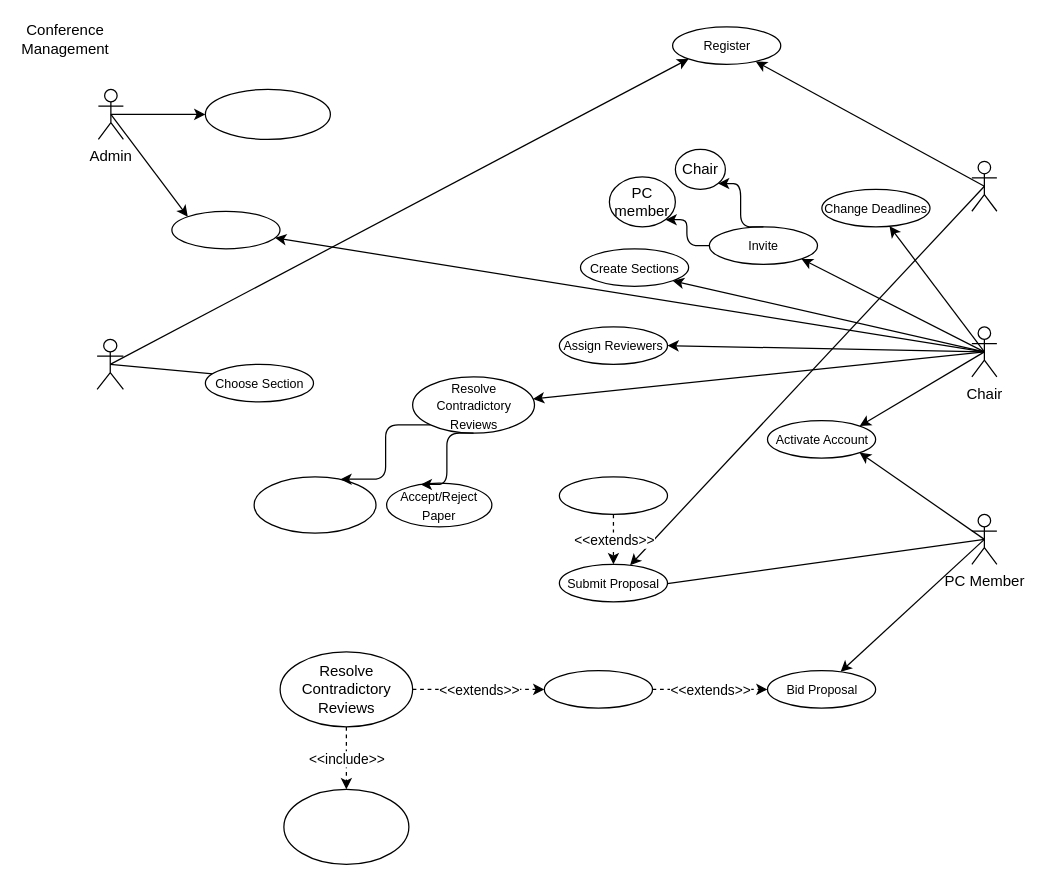
Image size: 1046x886. Some labels were removed from this diagram. Each missing label, with the centre of its shape:
Assign 3 other PC Members for Review: the point at 314,504
Author: the point at 984,185
Create Conference: the point at 267,113
Invite Chairs: the point at 225,229
Listener: the point at 109,363
Resubmit: the point at 613,495
Review Proposal: the point at 597,688
Send messages: the point at 346,826
